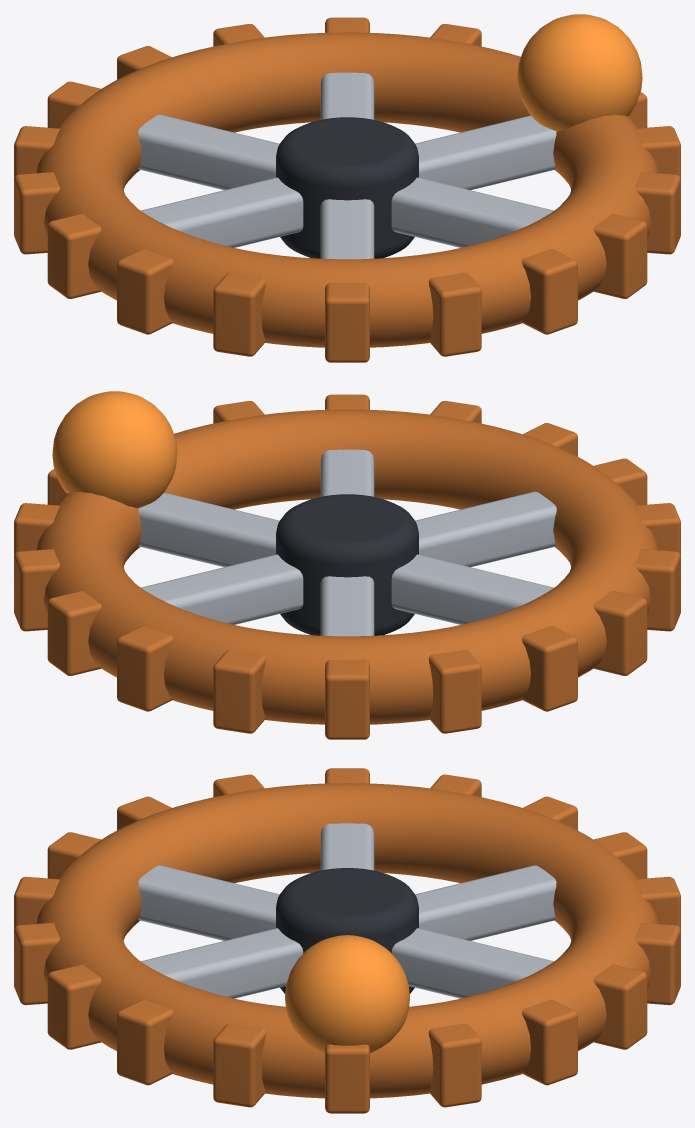
File: crank_wheel.glb
3 renders of one model, top to bottom at view 1: azimuth 30°, elevation 25°; view 2: azimuth 150°, elevation 25°; view 3: azimuth 270°, elevation 25°, orthographic.
Visible parts, largest first — view 1: crank_wheel; view 2: crank_wheel; view 3: crank_wheel.
Boxes of the visible parts, x1,y1,x2,y2 form: crank_wheel: (14, 14, 680, 362); crank_wheel: (14, 391, 680, 739); crank_wheel: (14, 768, 680, 1113).
Bounding box in the file's own units: 0.75 × 0.2 × 0.7452.
